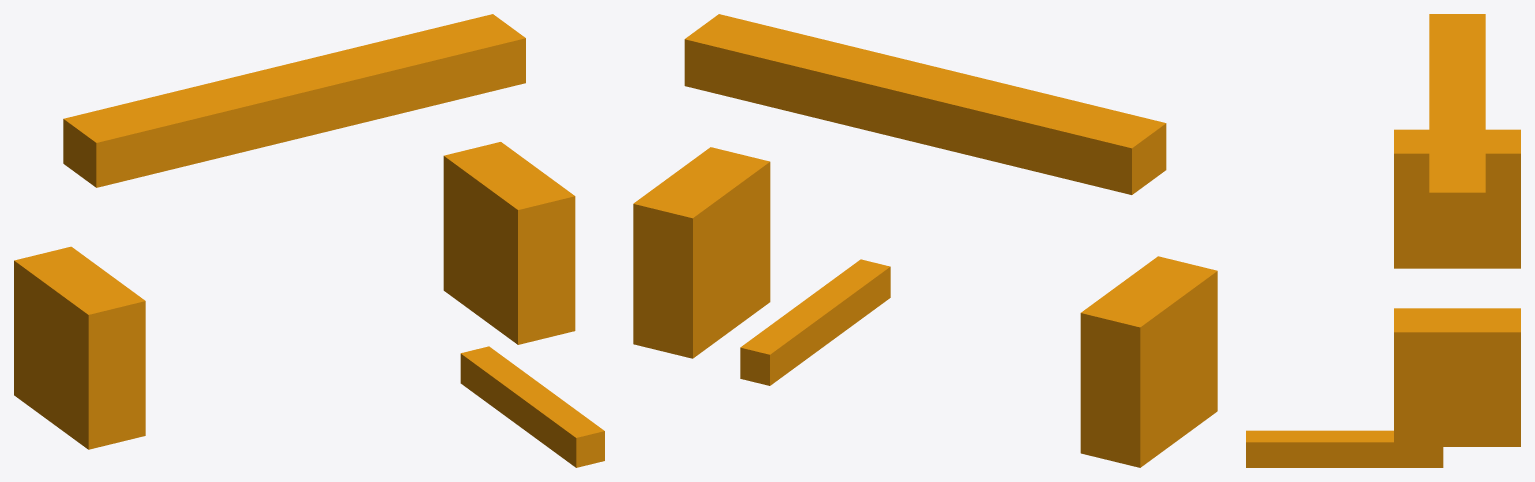
Rendered from accessory_headset.glb.
3 views of the same model, side by side, from view 1: azimuth 30°, elevation 25°; view 2: azimuth 150°, elevation 25°; view 3: azimuth 270°, elevation 25° (orthographic). The views are drawn at different scales.
Parts seen in each view (by area): view 1: band, cup_l, cup_r, mic; view 2: band, cup_r, cup_l, mic; view 3: cup_l, band, cup_r, mic.
Boxes of the visible parts, x1,y1,x2,y2 form: band: [63, 14, 525, 187]; cup_l: [443, 142, 575, 344]; cup_r: [14, 246, 145, 449]; mic: [460, 346, 604, 467]; band: [684, 14, 1166, 194]; cup_r: [1080, 256, 1217, 467]; cup_l: [633, 147, 770, 358]; mic: [740, 259, 890, 385]; cup_l: [1394, 308, 1520, 446]; band: [1429, 14, 1485, 230]; cup_r: [1394, 129, 1520, 268]; mic: [1246, 430, 1443, 467].
Size of the model in its own units: 0.34 by 0.225 by 0.195.
